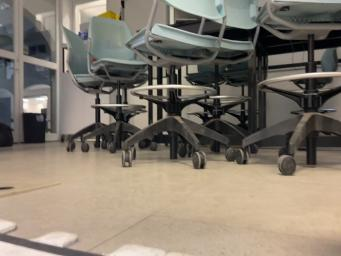street: (0, 233, 102, 256), (0, 233, 102, 256), (0, 233, 102, 256)
